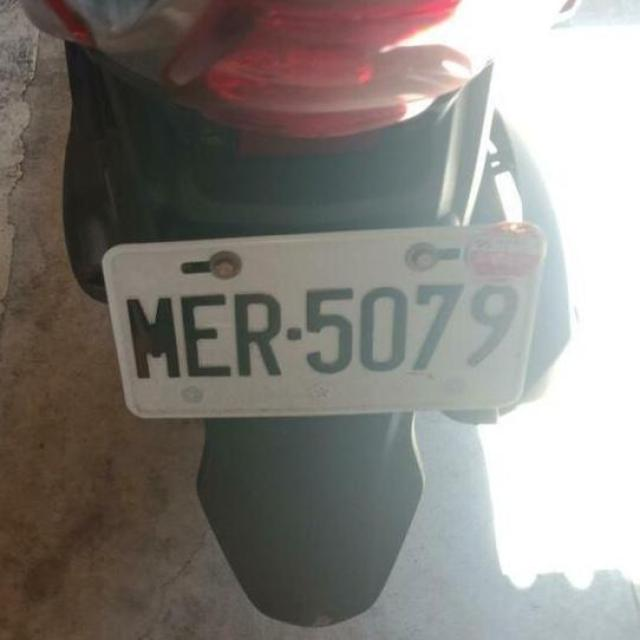W: (93, 197, 567, 438)
